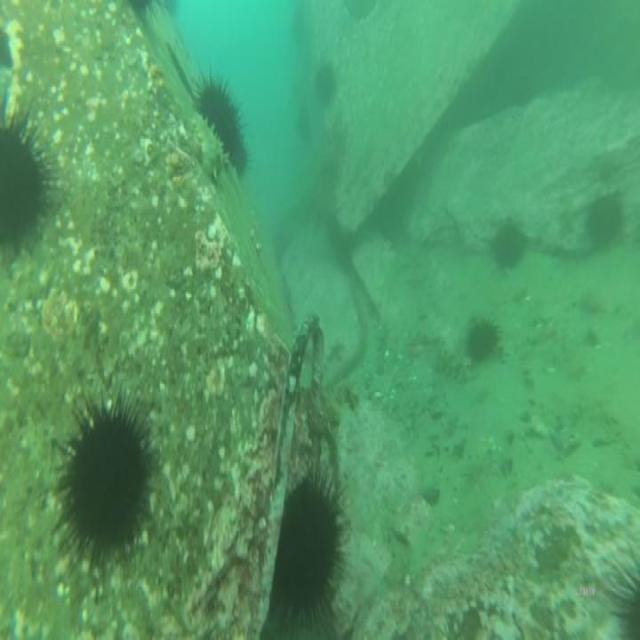echinus: (54, 386, 152, 580), (275, 458, 337, 613), (0, 112, 48, 261), (197, 76, 251, 183), (584, 188, 628, 254), (486, 218, 529, 277), (463, 310, 503, 368), (310, 55, 338, 111)
